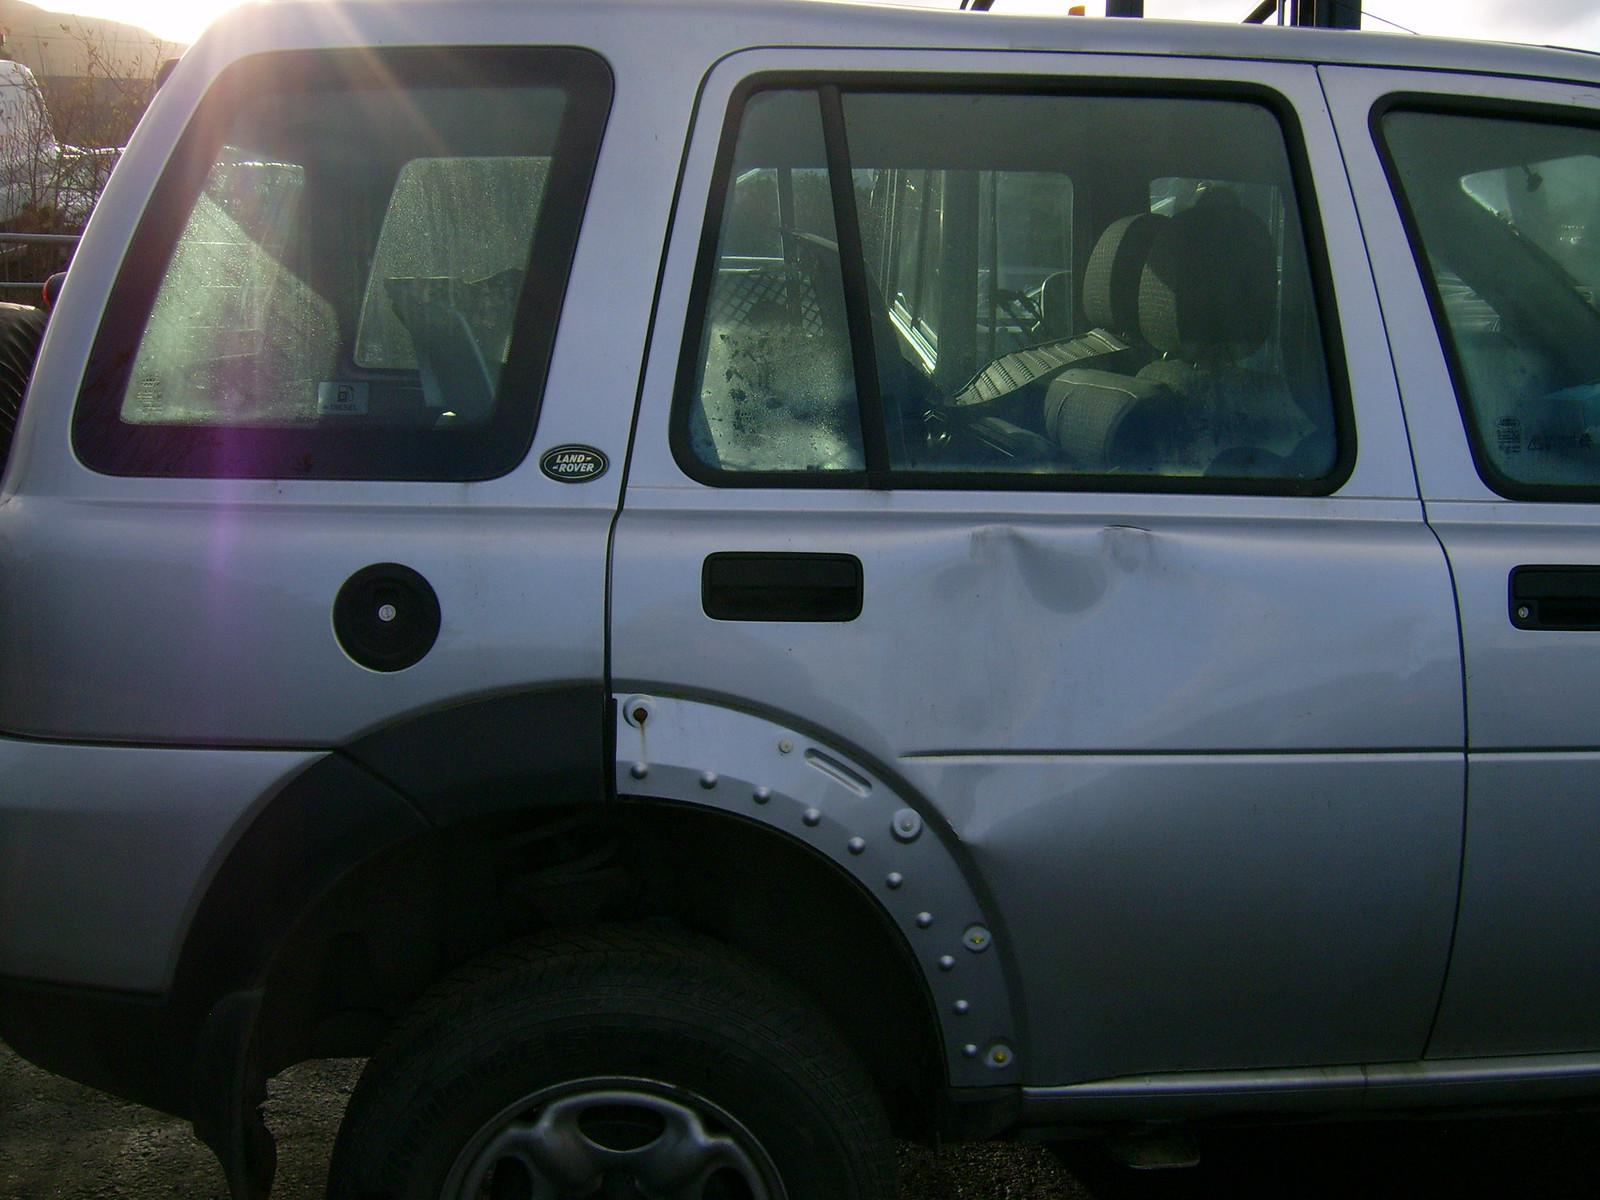doorouter-dent: (655, 458, 1400, 1100)
